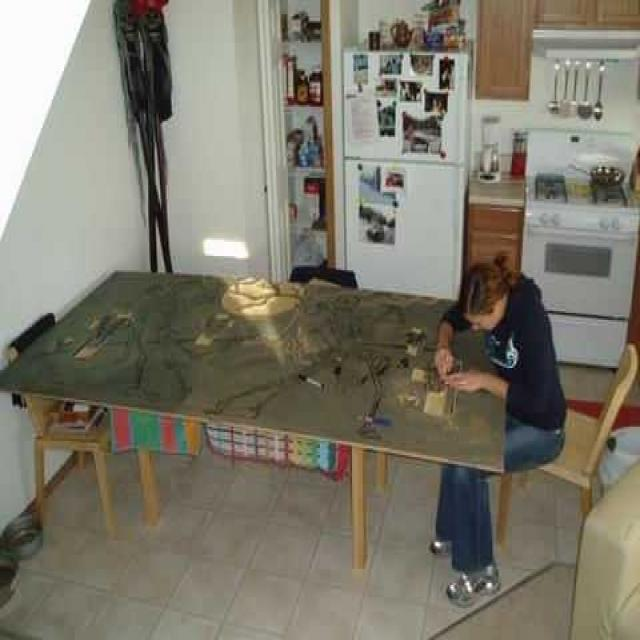refrigerator: (342, 49, 466, 325)
